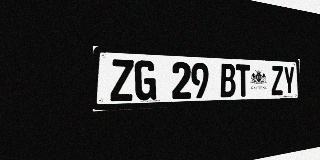2: (172, 62, 191, 99)
9: (191, 62, 209, 98)
B: (220, 63, 236, 97)
G: (135, 60, 156, 101)
T: (236, 64, 250, 97)
Y: (283, 66, 295, 95)
Z: (110, 59, 134, 102), (271, 65, 283, 95)
